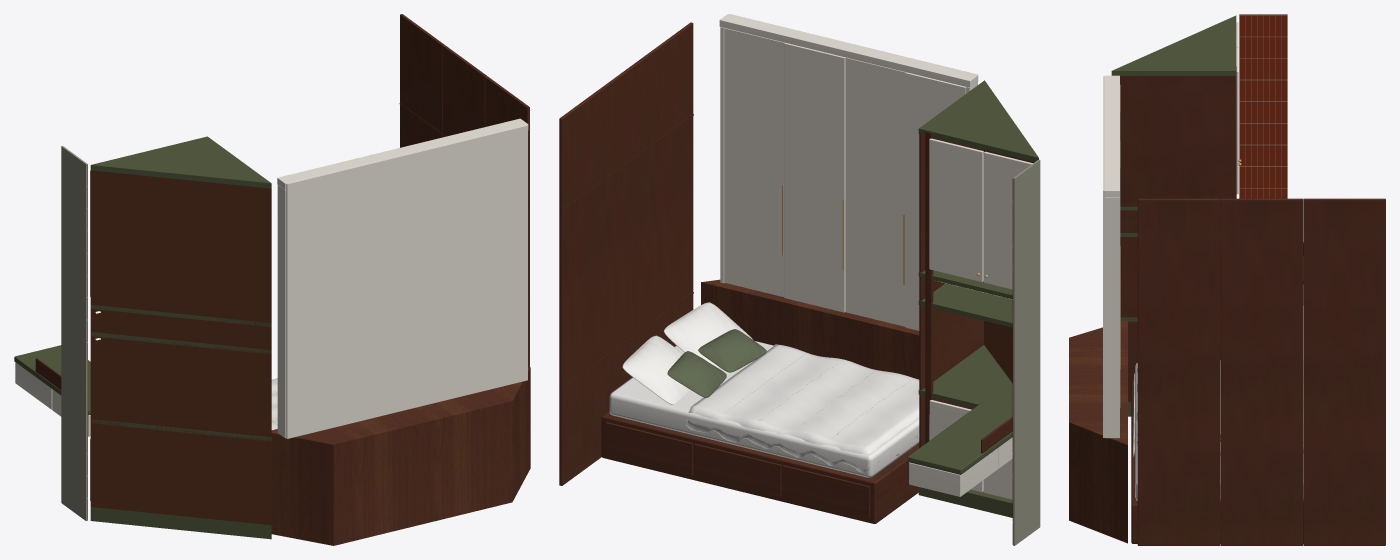
The model's file is work.glb.
3 renders of one model, left to right at view 1: azimuth 30°, elevation 25°; view 2: azimuth 150°, elevation 25°; view 3: azimuth 270°, elevation 25°, orthographic. The views are drawn at different scales.
Visible parts, largest first — view 1: Concealed sliding panel backing, Deep teak bedside cabinet cheek, Continuous teak sill cap, Angled fitted cabinet shelf, Full-height teak headboard backdrop, Full-height mosaic backing, 980 by 400 mm Thyme Rhythm desktop, Moccasin Ivory desk drawer; view 2: Concealed sliding panel backing, Full-height teak headboard backdrop, Daybed mattress with fitted sheet, 2040 by 1240 mm teak daybed platform, Flush Moccasin Ivory cabinet door, Angled fitted cabinet shelf, Full-height mosaic backing, Continuous teak sill cap, Deep teak bedside cabinet cheek, 980 by 400 mm Thyme Rhythm desktop, Daybed olive cushion, Moccasin Ivory desk drawer (+2 smaller); view 3: Full-height teak headboard backdrop, Deep teak bedside cabinet cheek, Continuous teak sill cap, Scarlet Kitkat mosaic tile, Concealed sliding panel backing, Angled fitted cabinet shelf, Full-height mosaic backing, 2040 by 1240 mm teak daybed platform, Daybed mattress with fitted sheet, Flush Moccasin Ivory cabinet door.
Part boxes in pixels (box(x1,y1,x2,y2)): Concealed sliding panel backing: box(277, 118, 528, 438); Deep teak bedside cabinet cheek: box(90, 170, 271, 525); Continuous teak sill cap: box(271, 367, 530, 545); Angled fitted cabinet shelf: box(90, 136, 271, 539); Full-height teak headboard backdrop: box(400, 14, 529, 367); Full-height mosaic backing: box(61, 146, 87, 520); 980 by 400 mm Thyme Rhythm desktop: box(14, 345, 90, 415); Moccasin Ivory desk drawer: box(15, 362, 90, 436); Concealed sliding panel backing: box(719, 14, 978, 330); Full-height teak headboard backdrop: box(559, 22, 693, 485); Daybed mattress with fitted sheet: box(609, 303, 919, 477); 2040 by 1240 mm teak daybed platform: box(601, 411, 919, 523); Flush Moccasin Ivory cabinet door: box(929, 138, 1032, 499); Angled fitted cabinet shelf: box(918, 80, 1038, 517); Full-height mosaic backing: box(1013, 159, 1040, 545); Continuous teak sill cap: box(701, 279, 919, 379); Deep teak bedside cabinet cheek: box(919, 131, 1034, 447); 980 by 400 mm Thyme Rhythm desktop: box(907, 401, 1012, 474); Daybed olive cushion: box(668, 329, 765, 396); Moccasin Ivory desk drawer: box(909, 437, 1012, 496); Full-height teak headboard backdrop: box(1137, 198, 1385, 545); Deep teak bedside cabinet cheek: box(1120, 66, 1236, 402); Continuous teak sill cap: box(1069, 320, 1127, 543); Scarlet Kitkat mosaic tile: box(1239, 15, 1287, 198); Concealed sliding panel backing: box(1103, 75, 1120, 438); Angled fitted cabinet shelf: box(1111, 15, 1236, 416); Full-height mosaic backing: box(1239, 14, 1287, 198); 2040 by 1240 mm teak daybed platform: box(1131, 379, 1303, 543); Daybed mattress with fitted sheet: box(1133, 360, 1303, 500); Flush Moccasin Ivory cabinet door: box(1236, 22, 1238, 194).
Bounding box in the file's own units: 3 × 2.61 × 2.16.
Materials: 12 (1 with a texture image).
